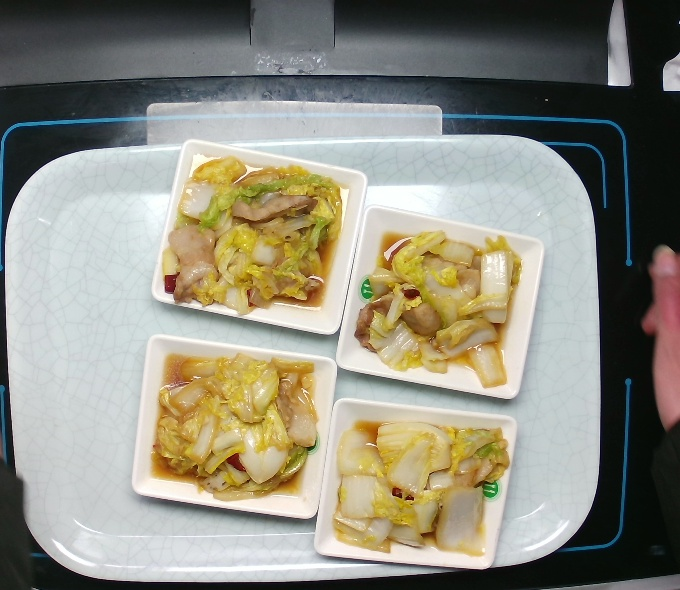wcq-DaBaiCaiRouPian: (156, 147, 353, 322), (351, 227, 524, 392), (148, 348, 324, 506), (328, 417, 513, 559)
